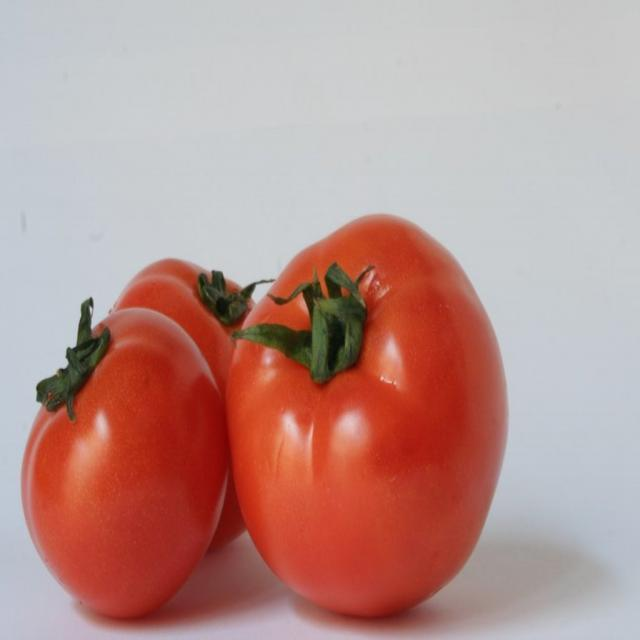Tomato: (227, 209, 510, 619), (21, 295, 231, 620), (113, 256, 272, 542)
